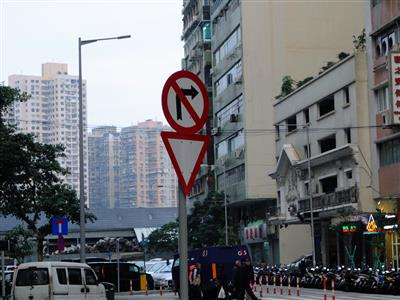deadEnd: (50, 215, 69, 235)
noRightTurn: (161, 69, 210, 134)
noStopping: (56, 233, 66, 251)
yield: (159, 129, 213, 196)
